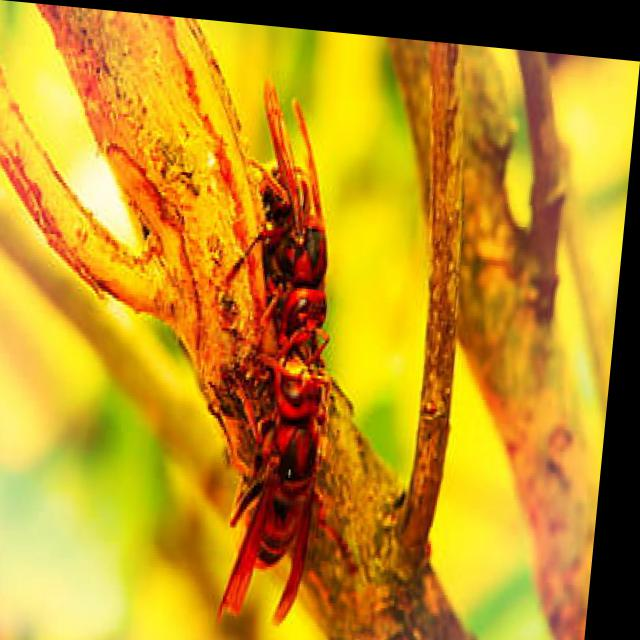Vespa Crabro: (215, 57, 369, 354), (233, 302, 354, 619)
